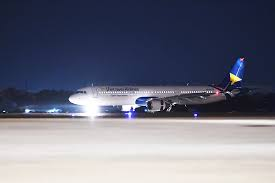maybay_dansu: (61, 66, 258, 114)
